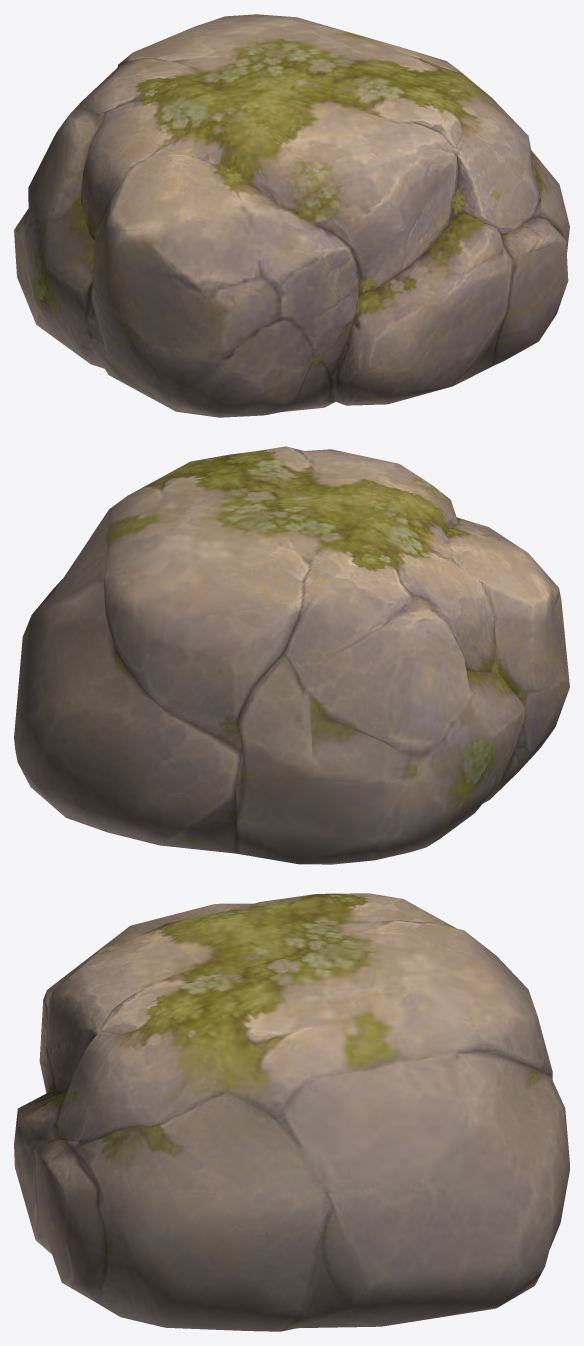
Rendered from rock_a.glb.
3 views of the same model, one above another, from view 1: azimuth 30°, elevation 25°; view 2: azimuth 150°, elevation 25°; view 3: azimuth 270°, elevation 25° (orthographic). The views are drawn at different scales.
Visible parts, largest first — view 1: boulder_a; view 2: boulder_a; view 3: boulder_a.
Boxes of the visible parts, x1,y1,x2,y2 form: boulder_a: [14, 14, 569, 417]; boulder_a: [14, 446, 569, 864]; boulder_a: [14, 893, 569, 1331].
Size of the model in its own units: 1 by 0.5639 by 0.9603.
1 material, 1 textured.
